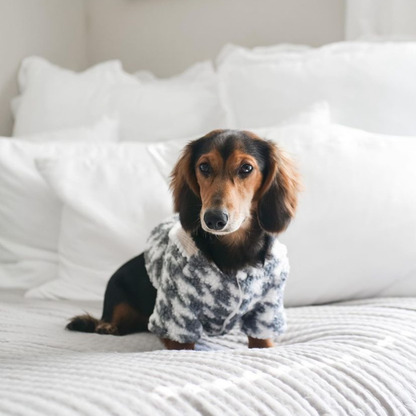dachshund: (52, 106, 325, 351)
